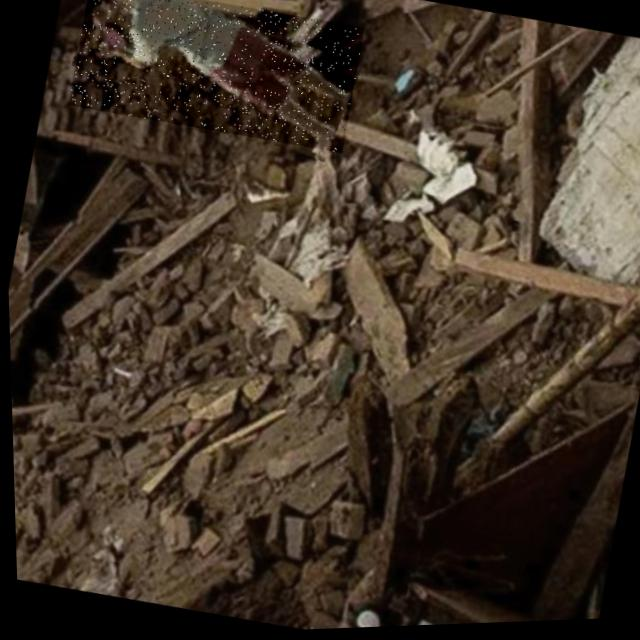Person in Rubble: (65, 0, 367, 162)
